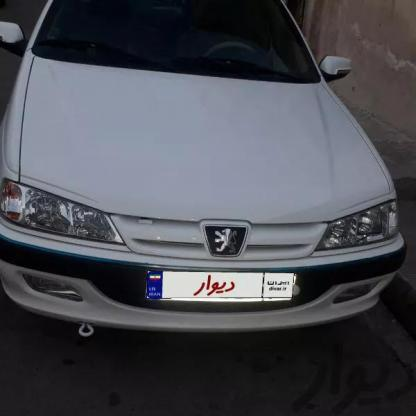Car: (0, 0, 399, 344)
